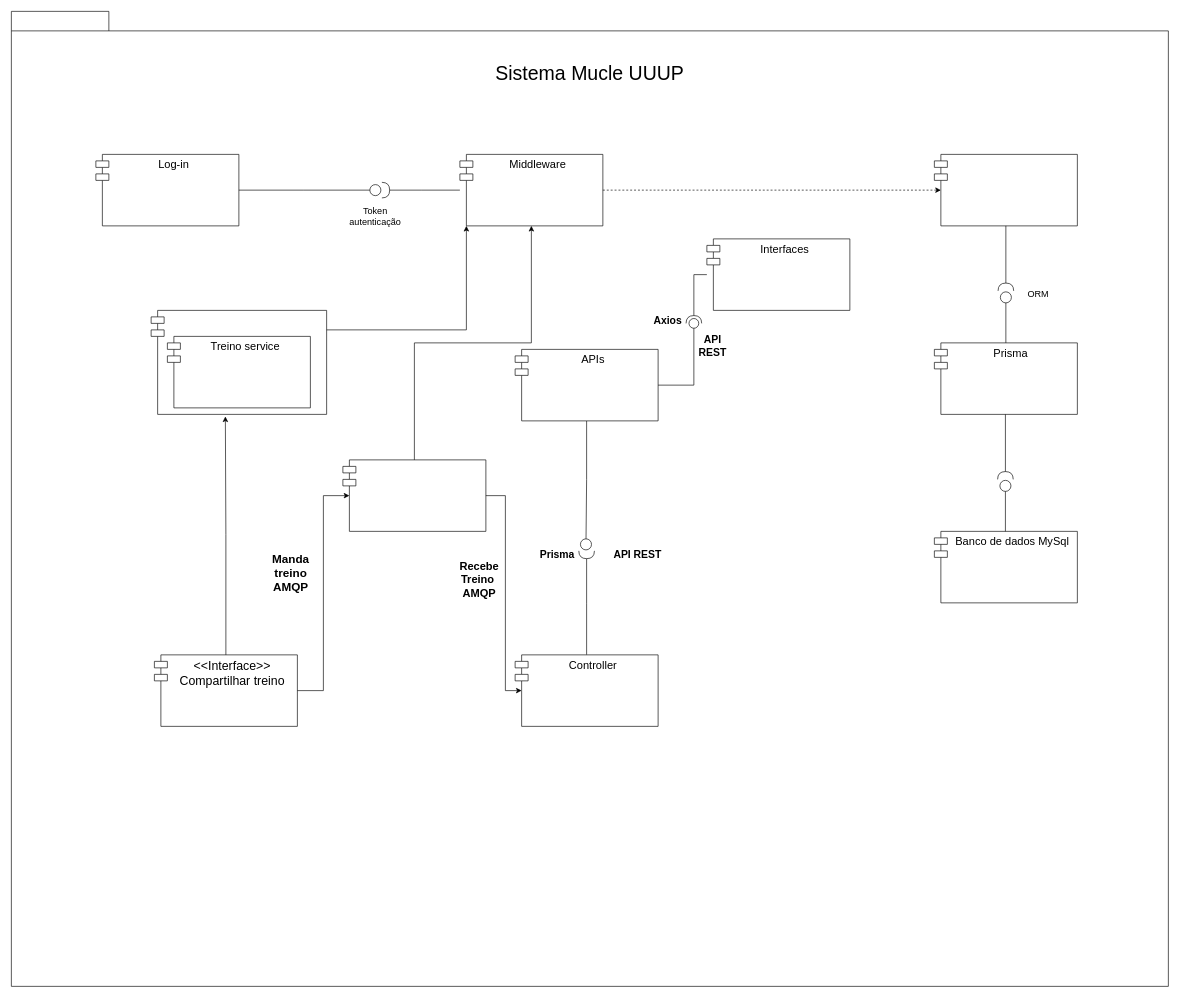
The diagram is 1180 pixels wide and 998 high, and some of its shapes have lost their labels. The shapes that lost their labels are listed below. From the top down, each one's box as (x1, y1, x2, y2) in pixels, then its label:
(934, 154, 1077, 226): Persistência de dados
(150, 310, 327, 414): Services
(342, 459, 486, 531): RabbitMQ
